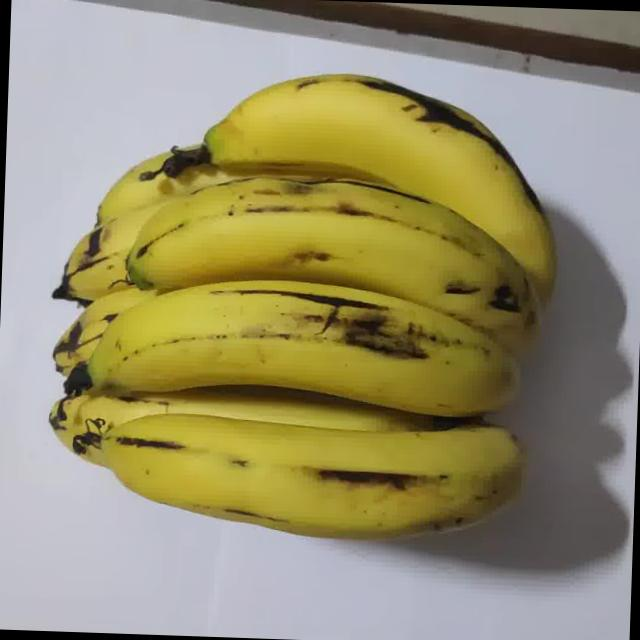banana_pacche: (52, 37, 624, 592)
